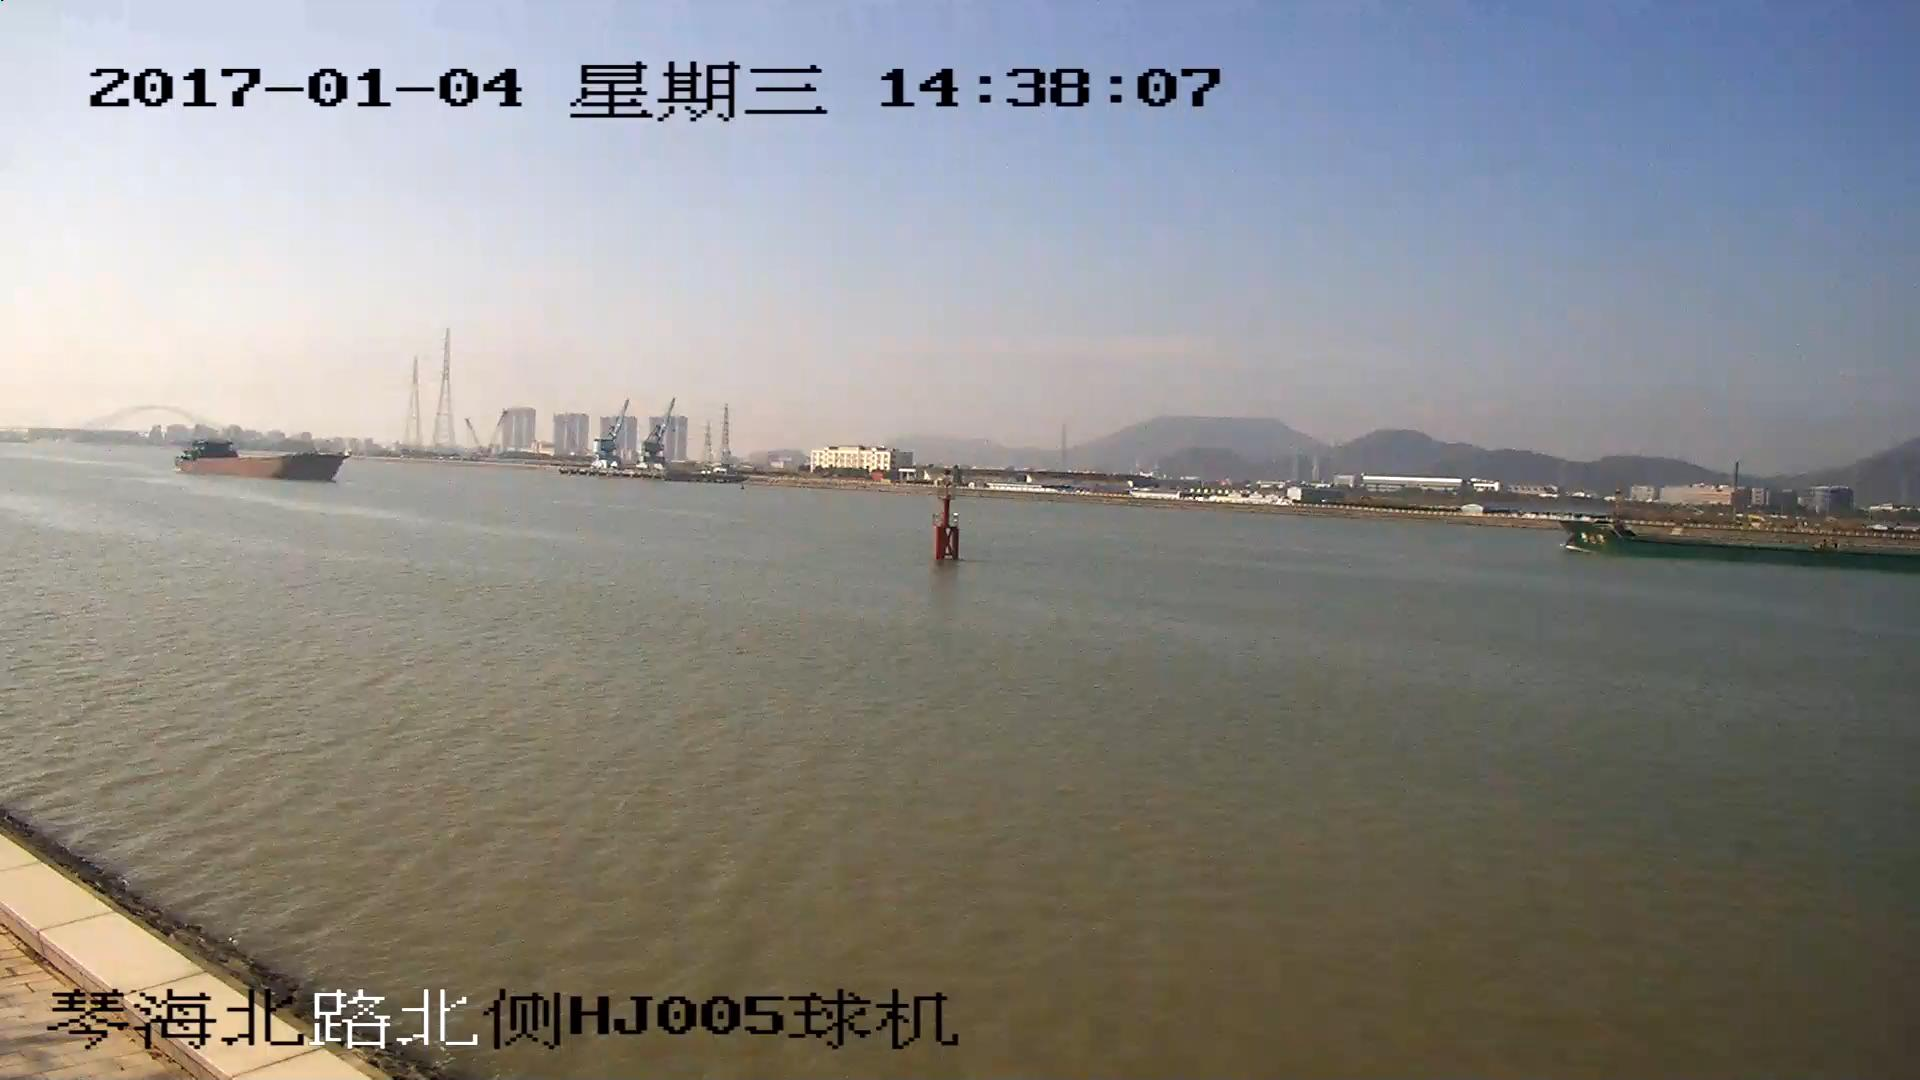general cargo ship: (1561, 512, 1920, 572)
